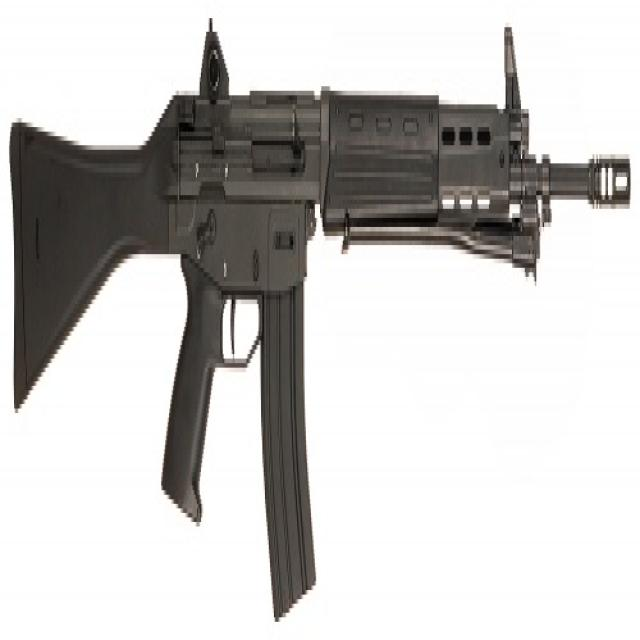rifle: (3, 1, 640, 640)
